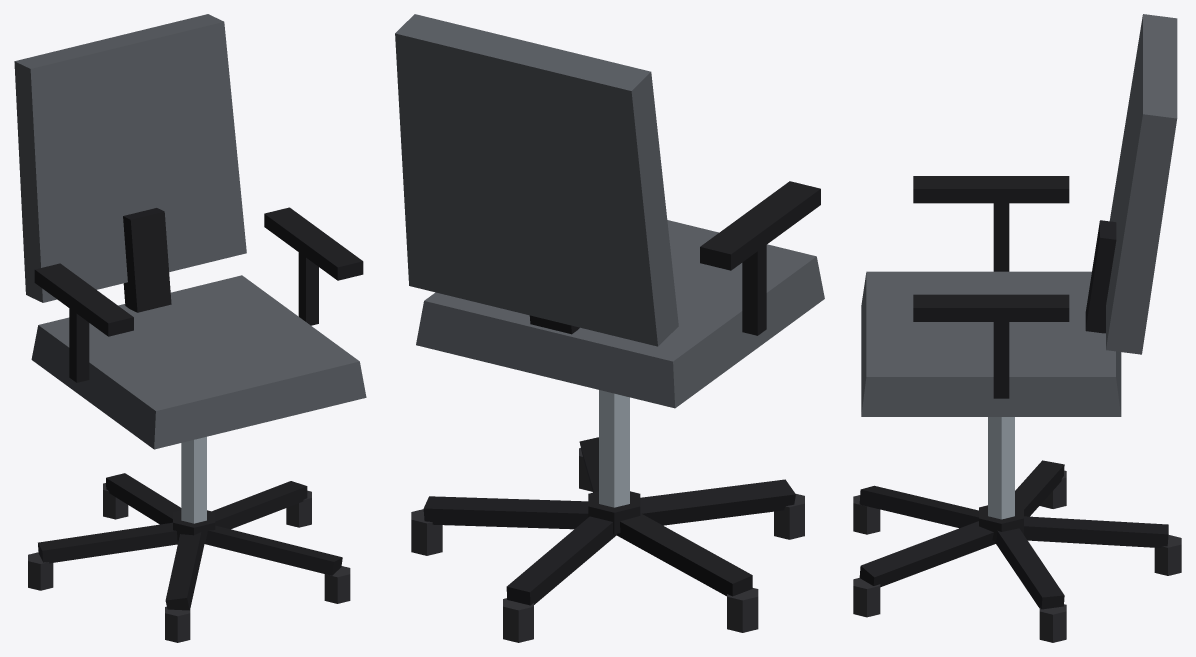
Rendered from GO_Chair_Office_01.glb.
The picture shows the model from 3 angles, left to right: view 1: azimuth 30°, elevation 25°; view 2: azimuth 150°, elevation 25°; view 3: azimuth 270°, elevation 25°; orthographic projection. The views are drawn at different scales.
Visible parts, largest first — view 1: GO_Chair_Office_01; view 2: GO_Chair_Office_01; view 3: GO_Chair_Office_01.
Part boxes in pixels (x1,y1,x2,y2): GO_Chair_Office_01: (14,14,366,642); GO_Chair_Office_01: (395,14,824,642); GO_Chair_Office_01: (853,14,1181,642).
Size of the model in its own units: 0.6687 by 1.07 by 0.6308.
1 material, 1 textured.
